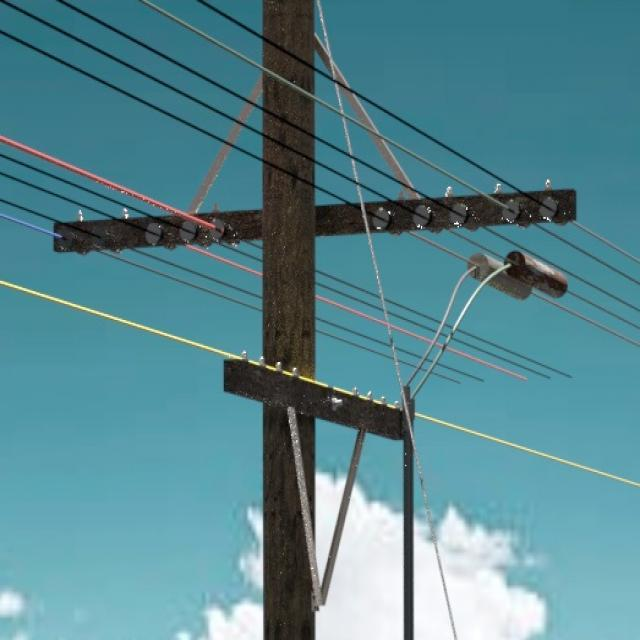crossarm: (54, 192, 575, 255), (312, 40, 424, 197), (223, 362, 409, 440), (183, 72, 264, 215)
pole: (260, 0, 316, 640)
